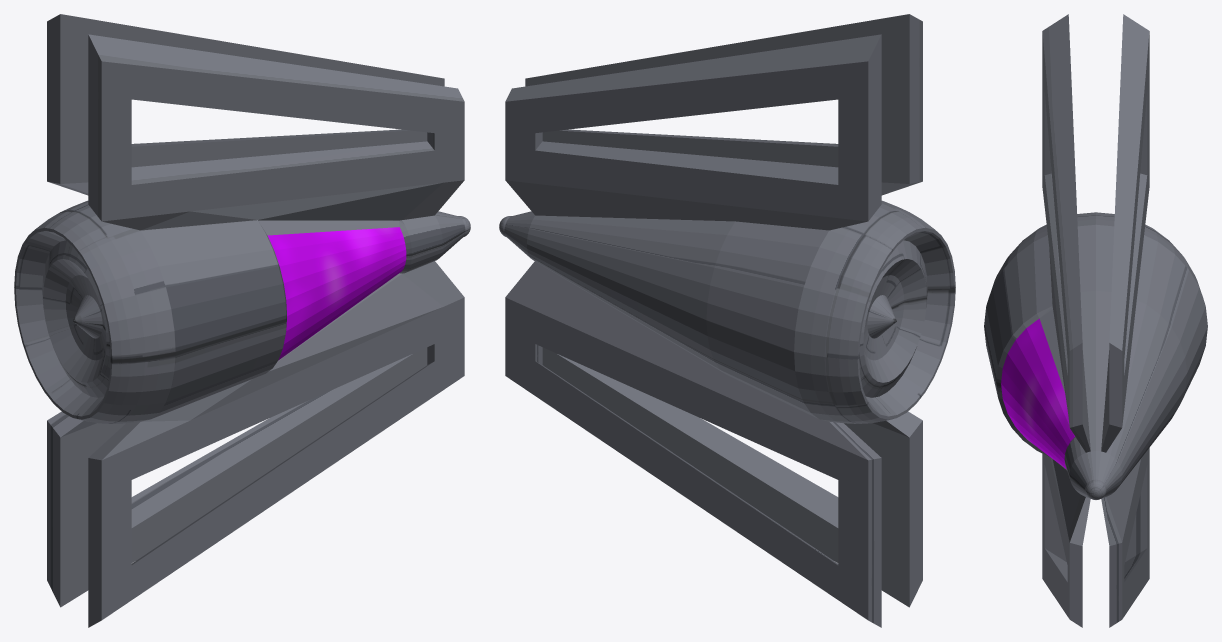
File: 404Ship.obj
3 renders of one model, left to right at view 1: azimuth 30°, elevation 25°; view 2: azimuth 150°, elevation 25°; view 3: azimuth 270°, elevation 25°, orthographic.
Parts seen in each view (by area): view 1: Sphere; view 2: Sphere; view 3: Sphere.
Boxes of the visible parts, box(x1,y1,x2,y2) form: Sphere: box(14, 14, 470, 627); Sphere: box(499, 14, 955, 627); Sphere: box(984, 14, 1207, 627).
Size of the model in its own units: 1.35 by 1.88 by 0.6559.
